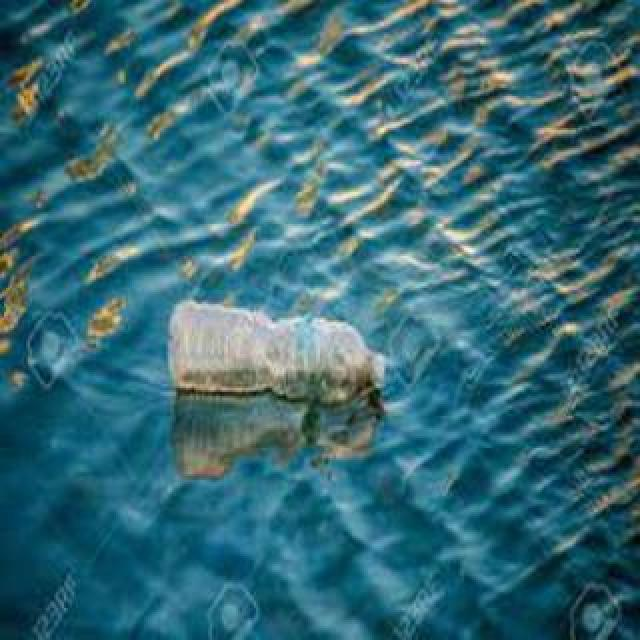Pet_Bottle: (165, 297, 393, 399)
